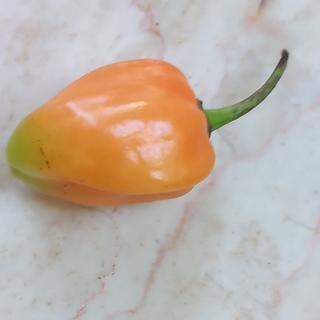Grade-A: (0, 50, 218, 213)
